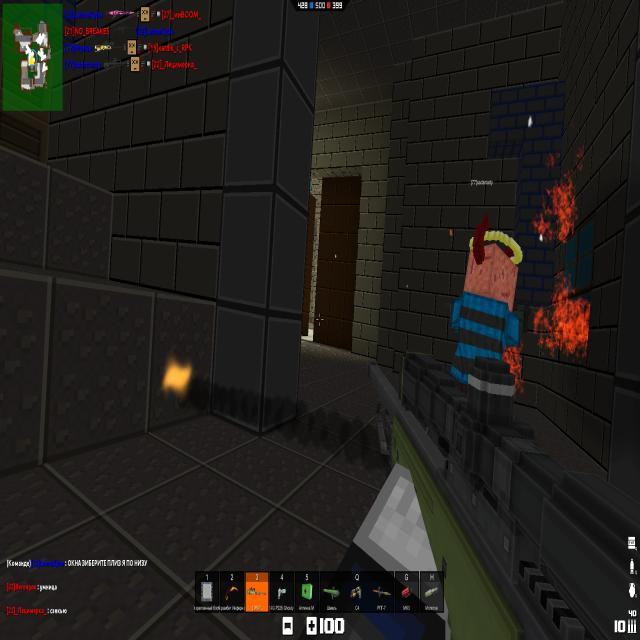player: (446, 218, 518, 398)
